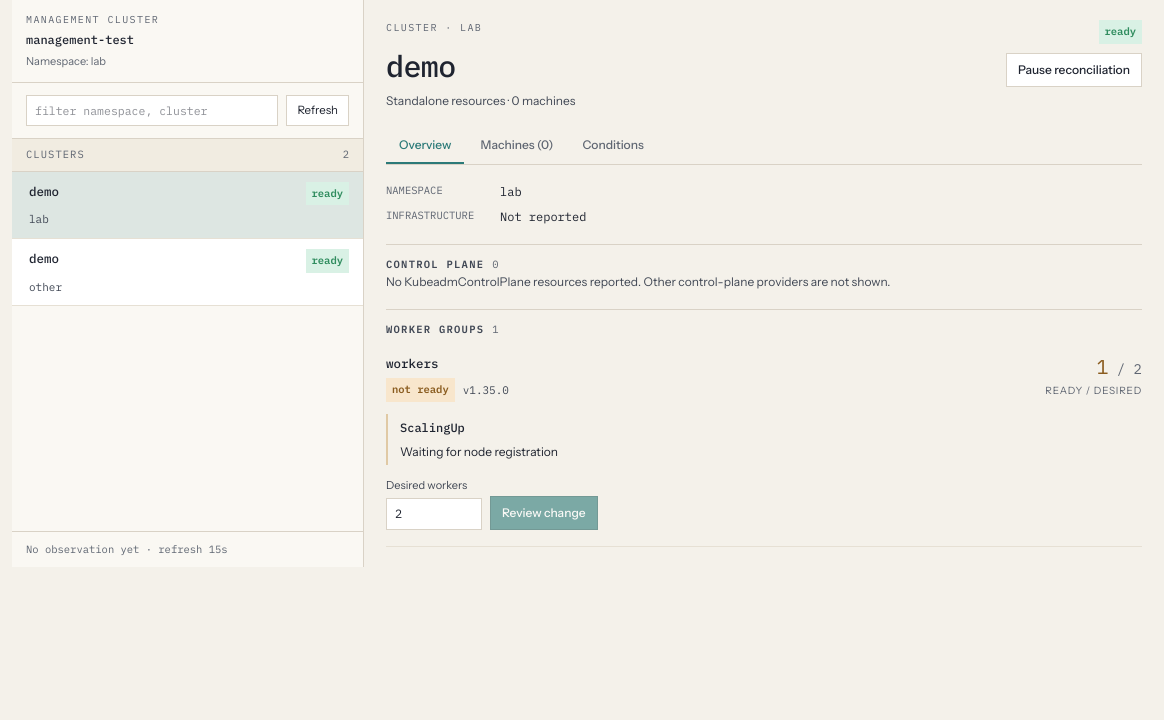
Test case: Cluster API workspace › keeps identical cluster names in different namespaces separate
The width and height of the screenshot is (1164, 720).
Click the button "demo Ready other".
click(44, 258)  # box [12,239,363,306]
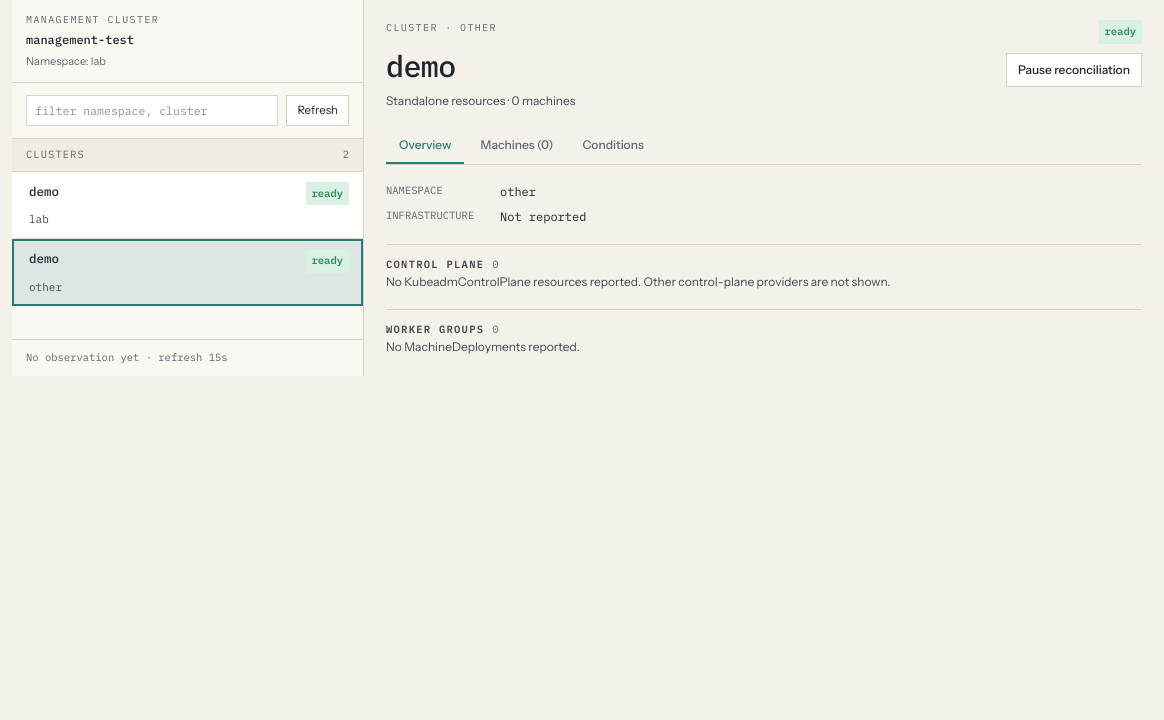
Now the text "No MachineDeployments reported." is shown, box [386,338,580,354]
